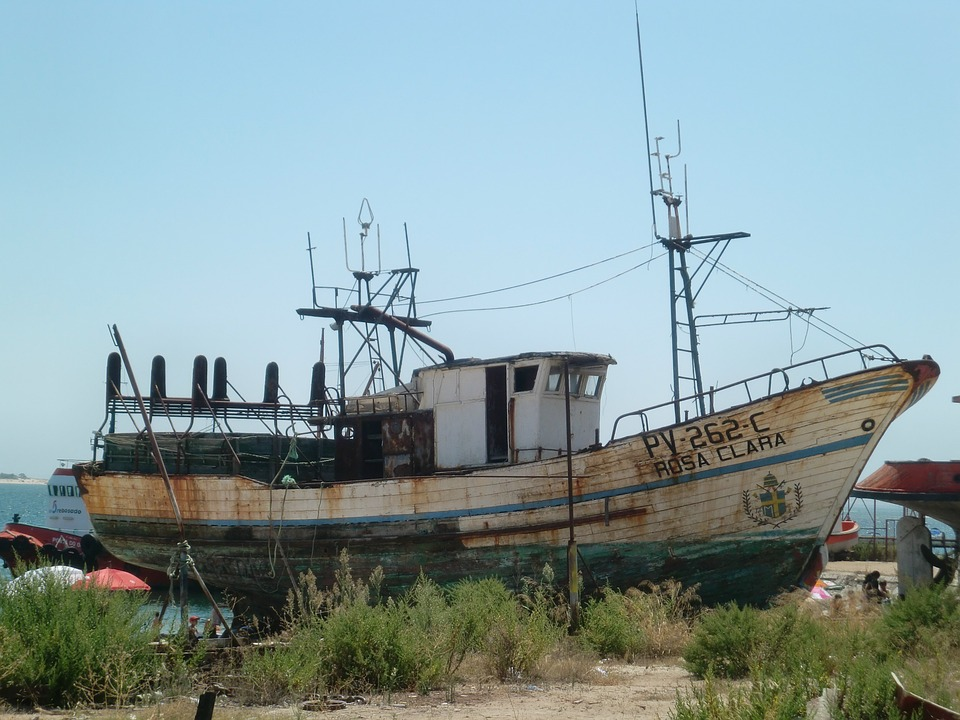rust: (81, 478, 197, 521), (478, 527, 556, 546), (320, 487, 344, 514)
